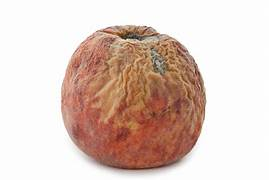fruit: (56, 19, 215, 174)
